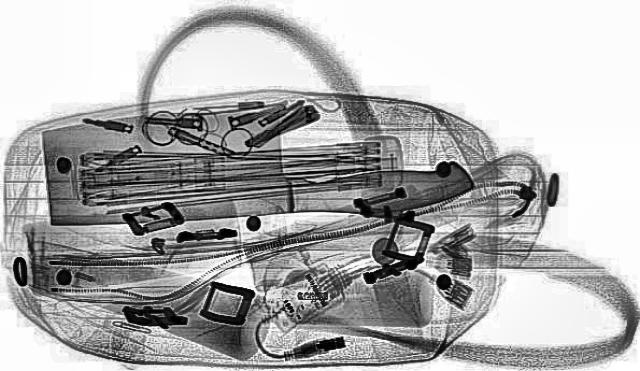Knife: (39, 106, 477, 224)
